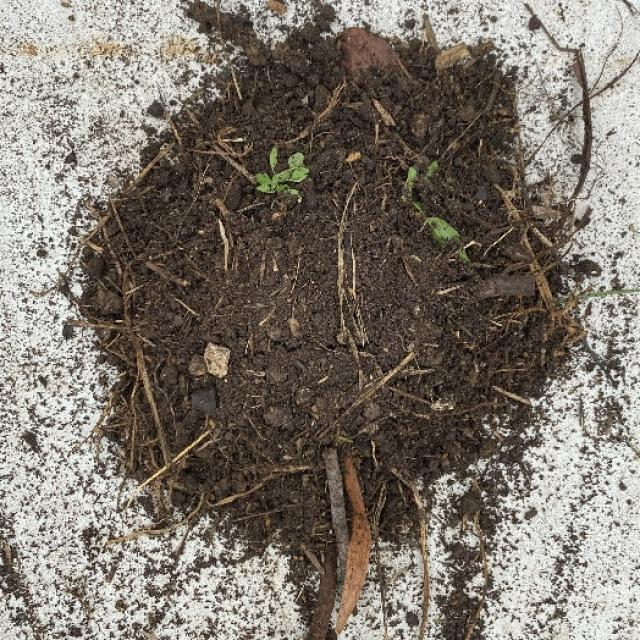organik: (104, 31, 582, 565)
